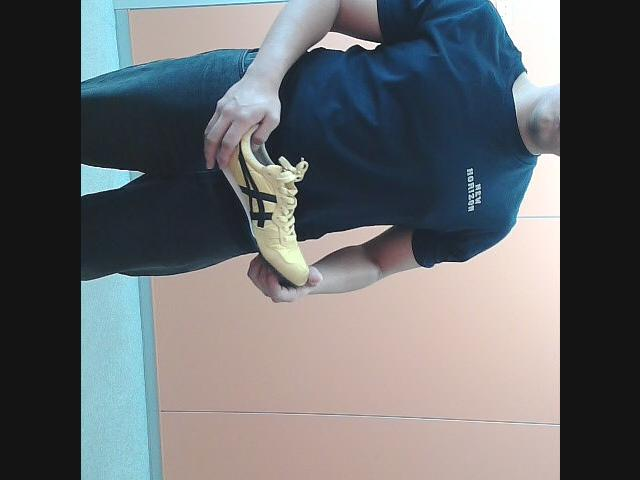Shoes: (216, 122, 310, 294)
